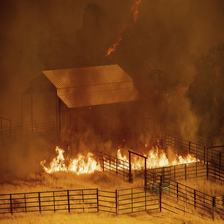fire: (41, 120, 203, 184)
